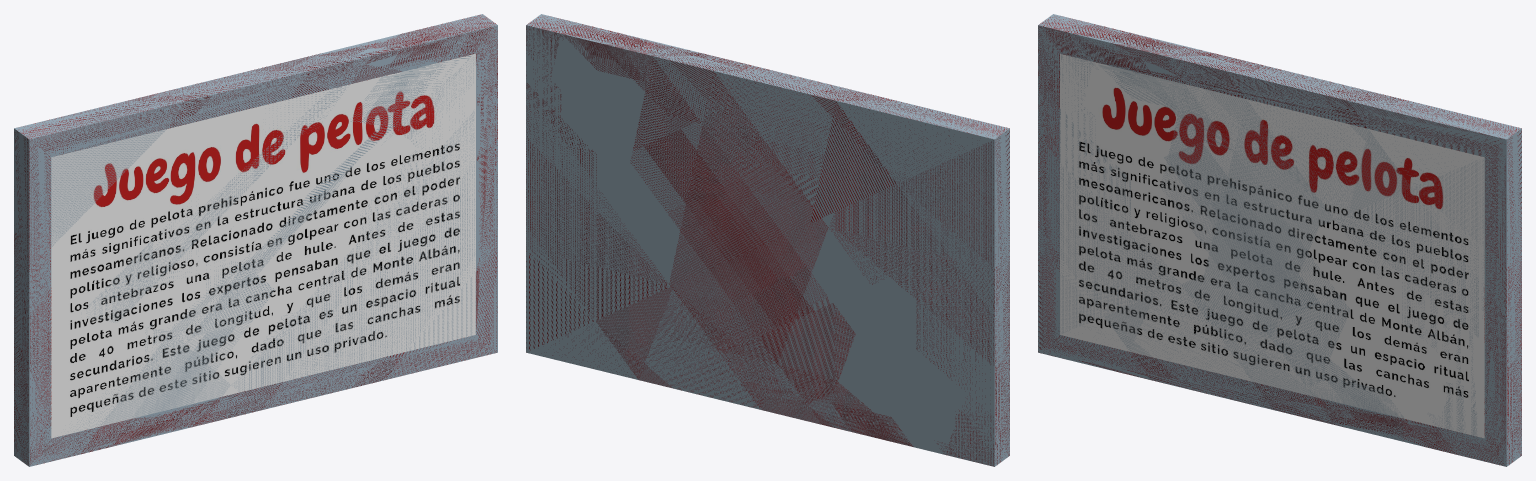
File: juegodepelota2.obj
3 views of the same model, side by side, from view 1: azimuth 30°, elevation 25°; view 2: azimuth 150°, elevation 25°; view 3: azimuth 330°, elevation 25° (orthographic).
Visible parts, largest first — view 1: Mesh1 Model; view 2: Mesh1 Model; view 3: Mesh1 Model.
Boxes of the visible parts, x1=… form: Mesh1 Model: x1=14, y1=14, x2=497, y2=466; Mesh1 Model: x1=526, y1=14, x2=1009, y2=466; Mesh1 Model: x1=1038, y1=14, x2=1521, y2=466.
Bounding box in the file's own units: 99.5 × 66.44 × 5.62.
